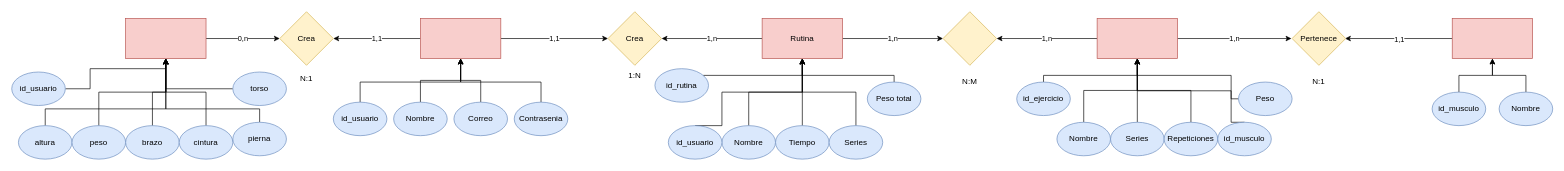
Image size: 1564x171. Some labels were removed from this diagram. The box of each missing label's shape, as (x1, y1, x2, y2) in pixels:
Contiene: (942, 11, 997, 65)
Ejercicio: (1096, 18, 1178, 59)
Medidas: (125, 18, 206, 59)
Músculo: (1452, 18, 1533, 59)
Usuario: (420, 18, 501, 59)
